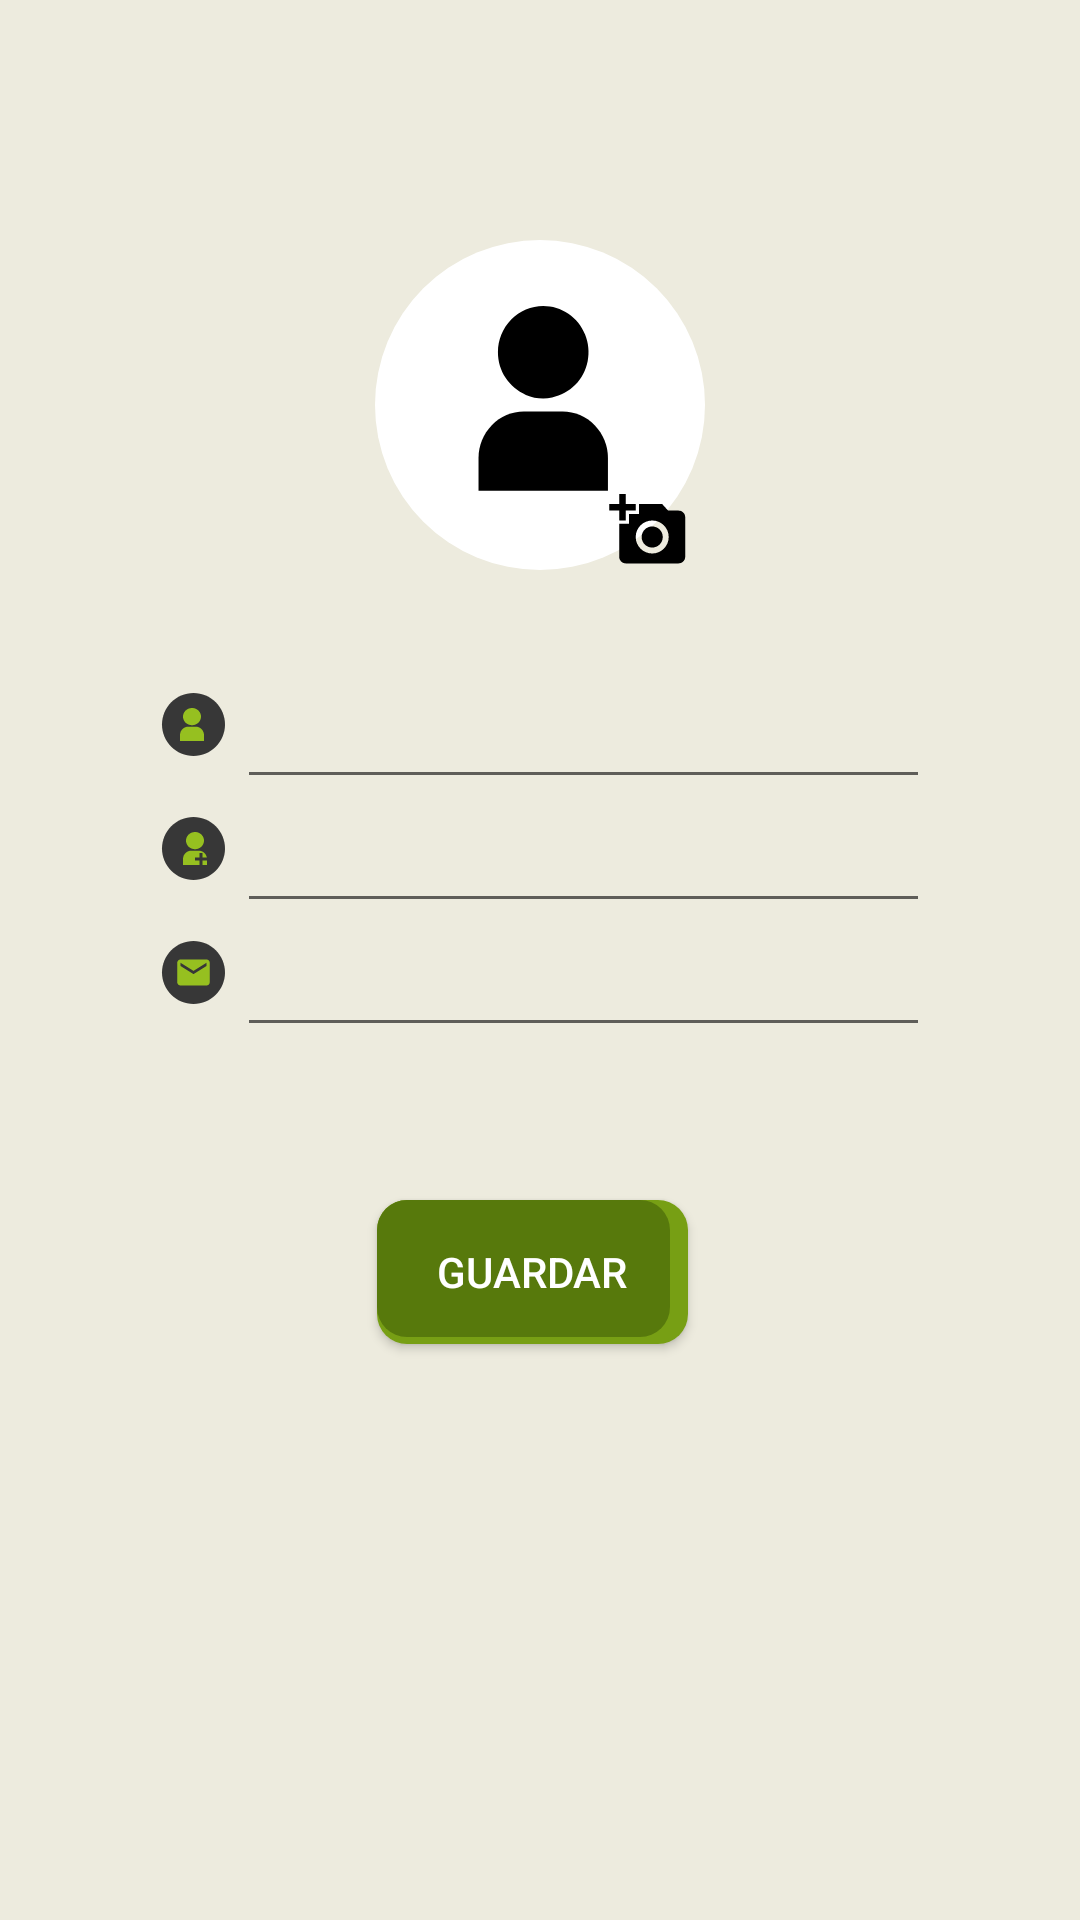

Icons on this 1080x1920 Android screen, each with the point to tap as [x,y]:
email: [193,972]
photoprofil: [540,405]
